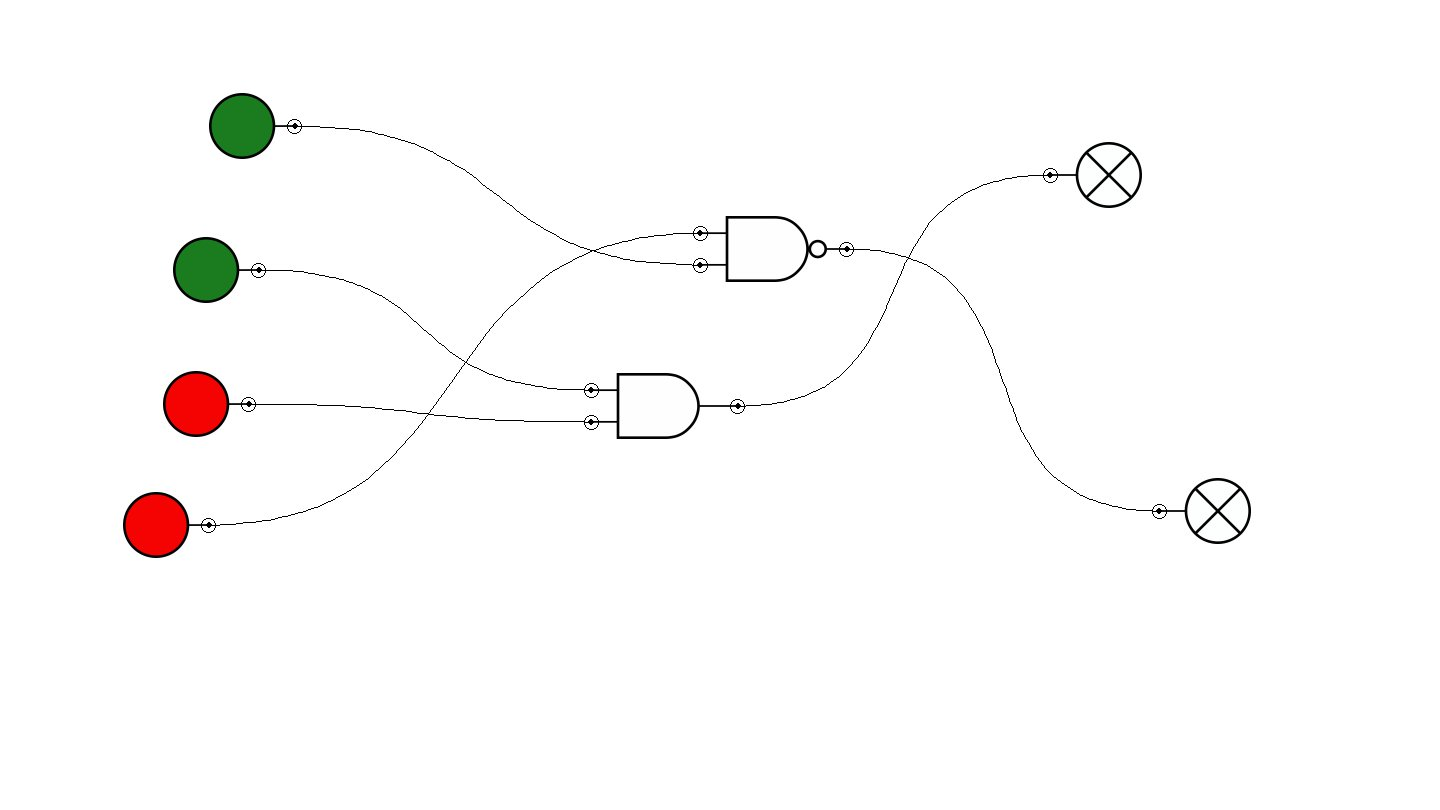and: (584, 373, 745, 439)
bulb: (1152, 478, 1251, 544), (1043, 142, 1142, 208)
nand: (693, 216, 854, 282)
switch_False: (163, 371, 256, 437), (123, 492, 216, 558)
switch_True: (209, 93, 302, 159), (173, 237, 266, 303)
